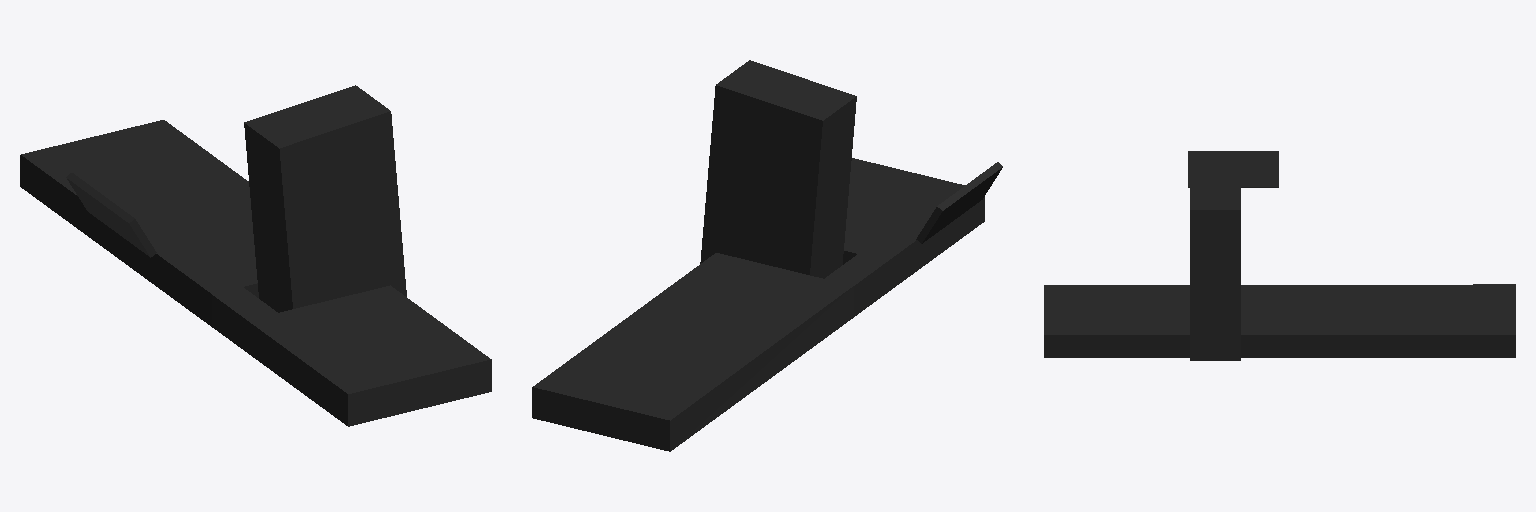
URDF robot description (corniche):
<?xml version="1.0" ?>
<robot name="corniche">
  <link name="base_link" />

    <link name="support_wall">
    <visual>
      <geometry>
        <mesh filename="package://mc_env_description/meshes/corniche/support_wall.stl" />
      </geometry>
      <material name="Grey">
        <color rgba="0.2 0.2 0.2 1.0" />
      </material>
    </visual>
  </link>
  <joint name="support_wall" type="fixed">
    <parent link="base_link" />
    <child link="support_wall" />
    <origin rpy="0.0 -0.5235990285873413 0.0" xyz="-0.9699658751487732 0.7098259329795837 0.781538724899292" />
  </joint>

  <link name="end">
    <visual>
      <geometry>
        <mesh filename="package://mc_env_description/meshes/corniche/end.stl" />
      </geometry>
      <material name="Grey">
        <color rgba="0.2 0.2 0.2 1.0" />
      </material>
    </visual>
  </link>
  <joint name="end" type="fixed">
    <parent link="base_link" />
    <child link="end" />
    <origin rpy="0.0 0.0 0.0" xyz="0.05499999225139618 1.7569060325622559 0.09000000357627869" />
  </joint>

  <link name="corniche">
    <visual>
      <geometry>
        <mesh filename="package://mc_env_description/meshes/corniche/corniche.stl" />
      </geometry>
      <material name="Grey">
        <color rgba="0.2 0.2 0.2 1.0" />
      </material>
    </visual>
  </link>
  <joint name="corniche" type="fixed">
    <parent link="base_link" />
    <child link="corniche" />
    <origin rpy="0.0 0.0 0.0" xyz="-0.27000001072883606 0.6200000047683716 0.09000000357627869" />
  </joint>

  <link name="start">
    <visual>
      <geometry>
        <mesh filename="package://mc_env_description/meshes/corniche/start.stl" />
      </geometry>
      <material name="Grey">
        <color rgba="0.2 0.2 0.2 1.0" />
      </material>
    </visual>
  </link>
  <joint name="start" type="fixed">
    <parent link="base_link" />
    <child link="start" />
    <origin rpy="0.0 0.0 0.0" xyz="0.05499999225139618 -0.19663992524147034 0.09000000357627869" />
  </joint>

  <link name="obstacle_wall_base">
    <visual>
      <geometry>
        <mesh filename="package://mc_env_description/meshes/corniche/obstacle_wall_base.stl" />
      </geometry>
      <material name="Grey">
        <color rgba="0.2 0.2 0.2 1.0" />
      </material>
    </visual>
  </link>
  <joint name="obstacle_wall_base" type="fixed">
    <parent link="base_link" />
    <child link="obstacle_wall_base" />
    <origin rpy="0.0 -0.08726649731397629 0.0" xyz="0.19909651577472687 0.48750001192092896 0.5571562051773071" />
  </joint>

</robot>

--- Render facts (derived) ---
3 views of the same robot in one strip: view 1: azimuth 30°, elevation 25°; view 2: azimuth 150°, elevation 25°; view 3: azimuth 270°, elevation 25° (orthographic).
Model corniche with 6 links and 5 joints (5 fixed), rooted at base_link, posed every joint at zero.
Visible links, largest first — view 1: obstacle_wall_base, end, start, corniche, support_wall; view 2: end, obstacle_wall_base, start, corniche, support_wall; view 3: end, start, obstacle_wall_base, support_wall.
Boxes of the visible links, x1=… form: obstacle_wall_base: x1=244, y1=85, x2=406, y2=312; end: x1=20, y1=120, x2=258, y2=326; start: x1=247, y1=285, x2=491, y2=426; corniche: x1=212, y1=287, x2=277, y2=351; support_wall: x1=66, y1=173, x2=156, y2=257; end: x1=532, y1=253, x2=853, y2=451; obstacle_wall_base: x1=700, y1=60, x2=856, y2=278; start: x1=843, y1=158, x2=984, y2=291; corniche: x1=825, y1=254, x2=887, y2=316; support_wall: x1=916, y1=162, x2=1002, y2=243; end: x1=1241, y1=284, x2=1515, y2=357; start: x1=1044, y1=285, x2=1189, y2=357; obstacle_wall_base: x1=1190, y1=178, x2=1240, y2=360; support_wall: x1=1188, y1=151, x2=1278, y2=187.
Size in the robot's own frame: 1.62 by 3.29 by 1.17 metres.
Meshes: 5 distinct files referenced, 5 mesh visuals loaded (5 binary STL).